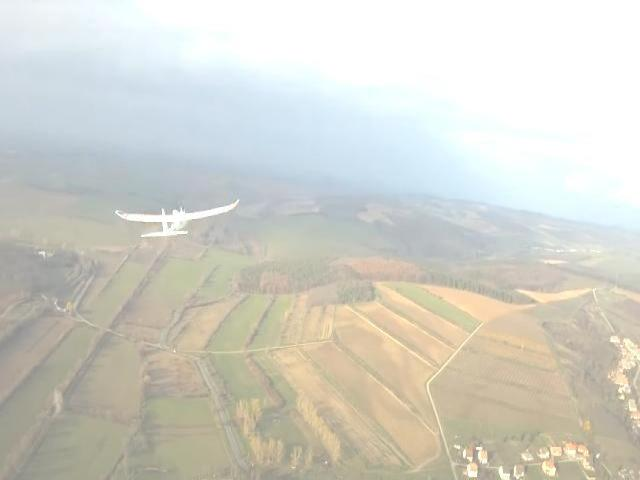iha: (112, 188, 244, 238)
